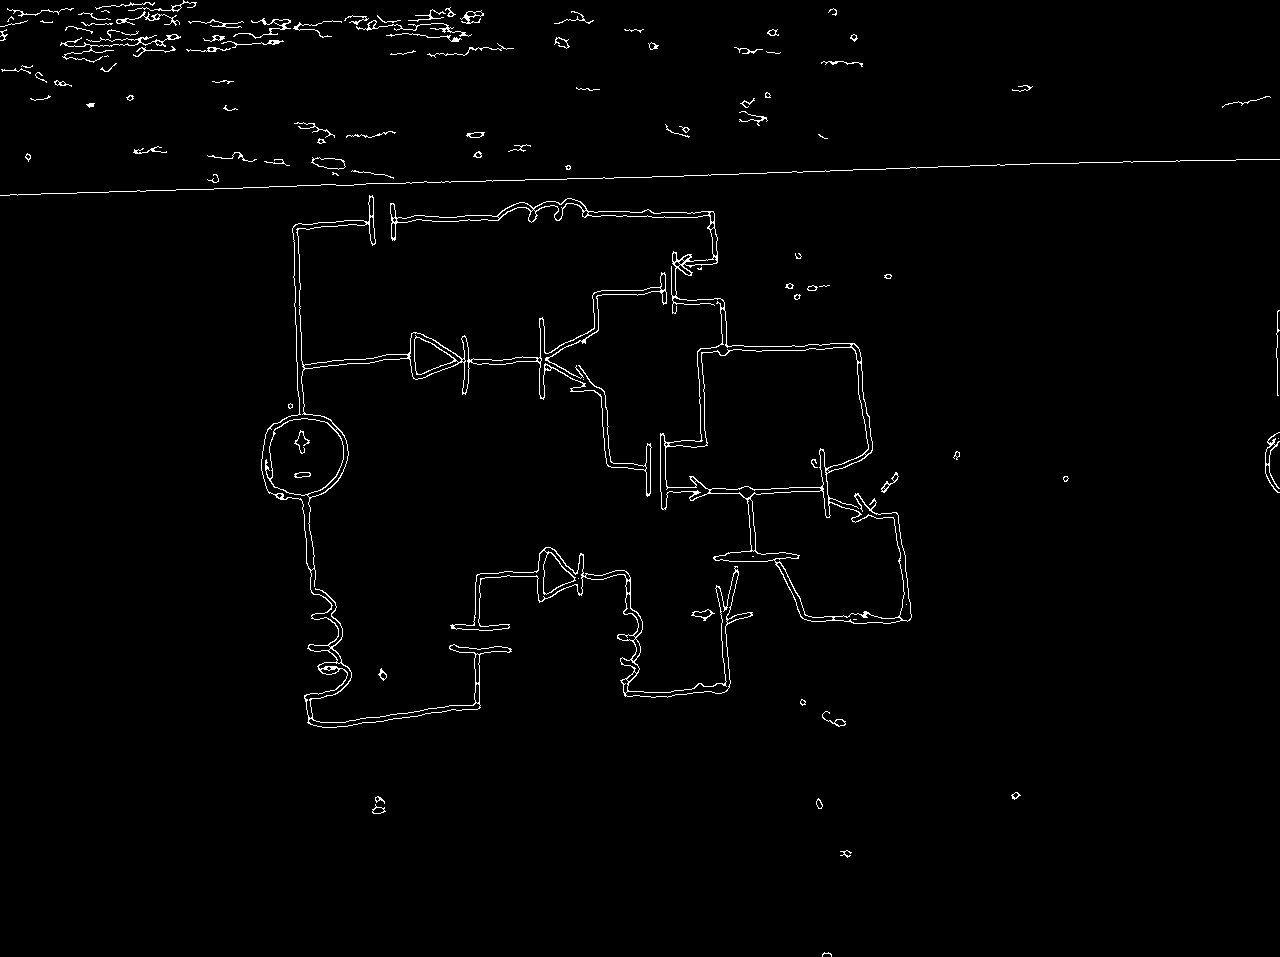capacitor: (440, 611, 519, 667), (351, 189, 409, 251)
diode: (401, 324, 488, 402), (526, 529, 593, 606)
inductor: (290, 565, 356, 717), (481, 193, 606, 230), (610, 592, 646, 691)
voltage: (257, 399, 351, 513)
